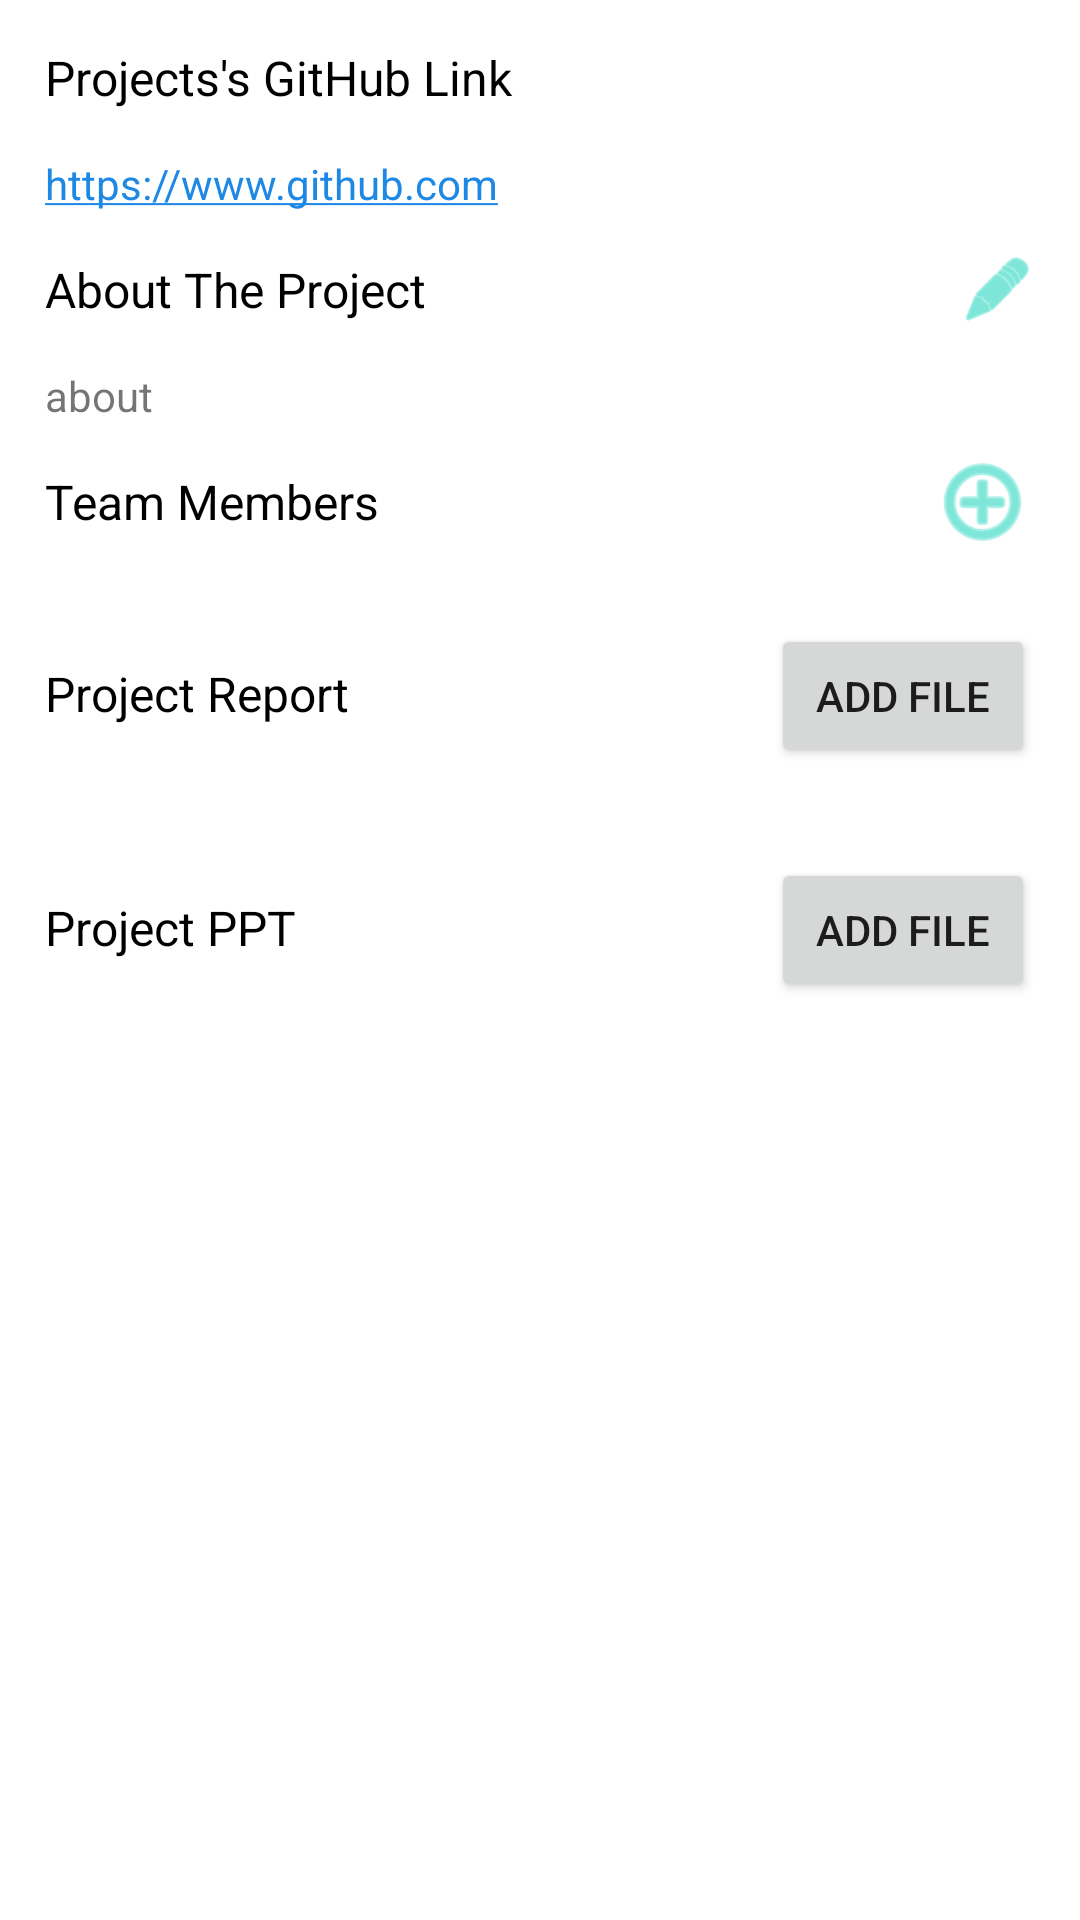

Icon click points for this 1080 x 1920 phone screenshot, format (x=x, y=y):
edit: (x=997, y=289)
